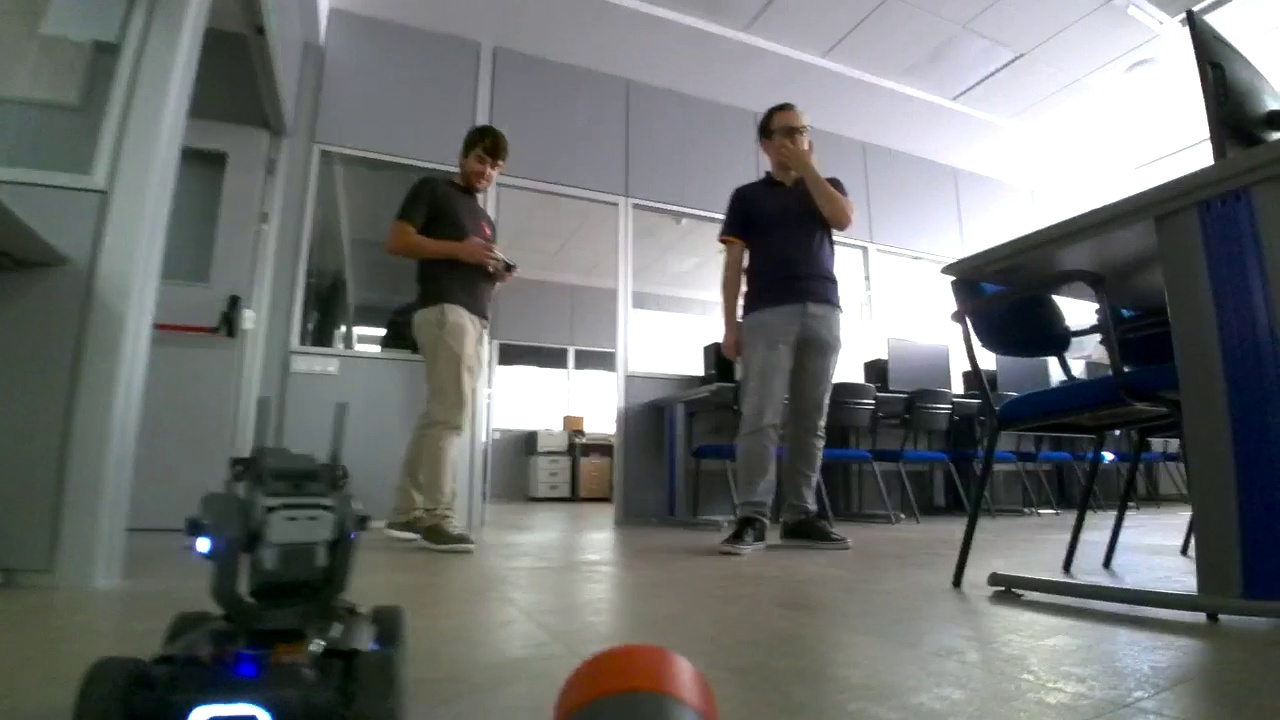robot: (71, 402, 402, 717)
